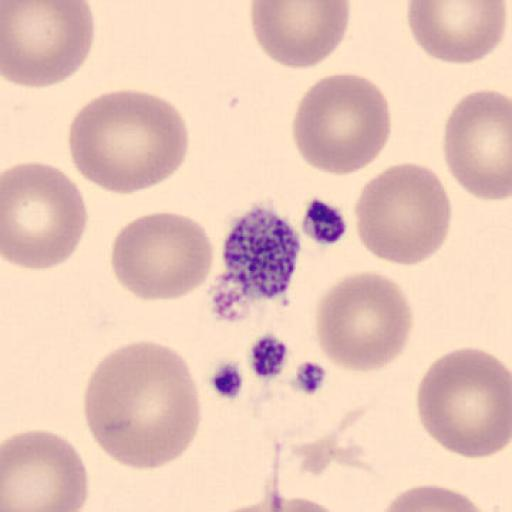Platelet: (208, 202, 304, 309), (298, 195, 349, 248), (243, 330, 293, 384)
RBC: (82, 338, 202, 472), (67, 88, 190, 196), (415, 344, 511, 460), (291, 72, 393, 178), (353, 161, 452, 268), (313, 270, 414, 373), (110, 209, 216, 304), (2, 159, 90, 271), (2, 0, 96, 89), (442, 89, 512, 202), (1, 427, 91, 512), (249, 1, 351, 70), (406, 0, 508, 65), (374, 482, 496, 512), (249, 492, 355, 512), (207, 492, 296, 512), (271, 495, 356, 512), (209, 498, 280, 512), (208, 502, 274, 512)
